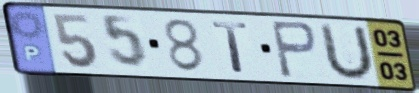5: (97, 13, 152, 74), (49, 11, 100, 71)
8: (161, 17, 205, 74)
P: (268, 19, 320, 81)
T: (210, 20, 252, 75)
U: (318, 21, 376, 83)
